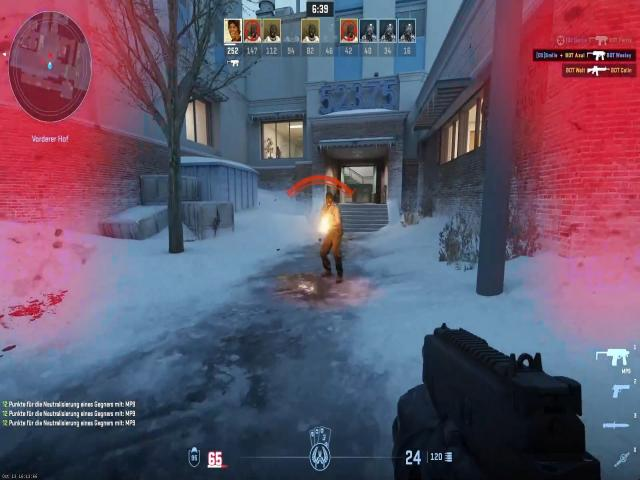T: (317, 191, 343, 242)
T-Head: (325, 192, 336, 211)
